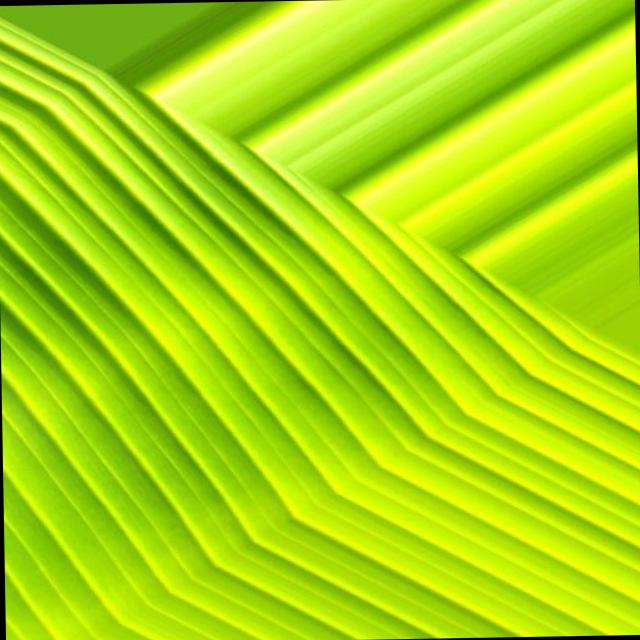Banana_Healthy: (12, 24, 640, 631)
